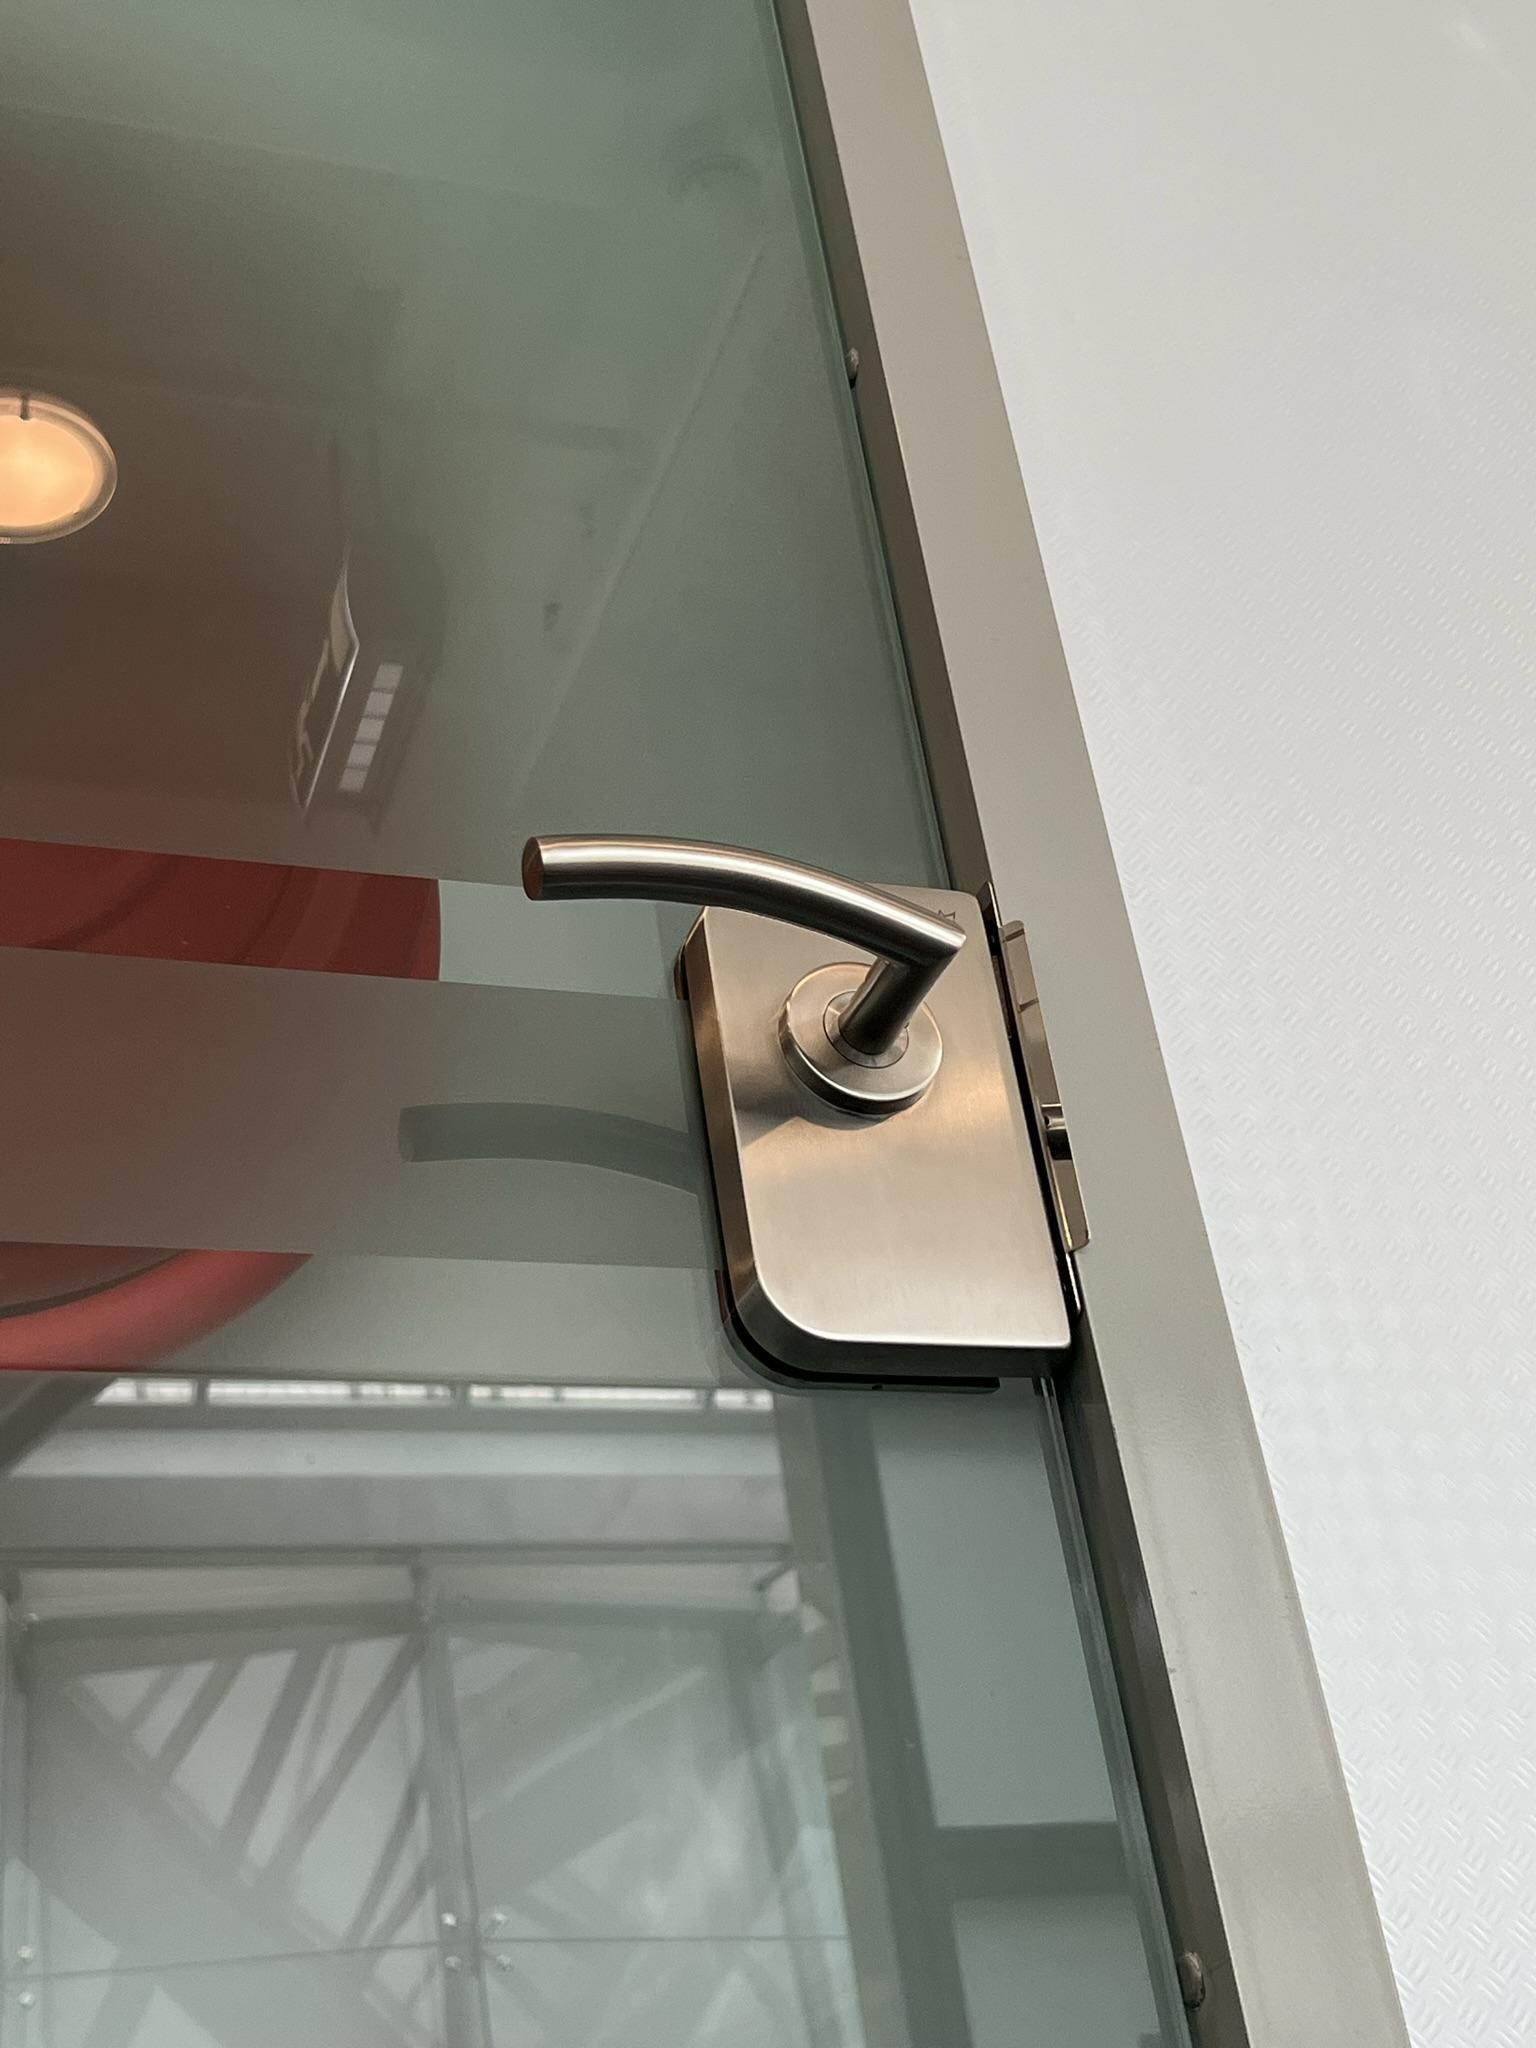door: (23, 11, 1329, 2019)
handle: (507, 816, 1100, 1426)
